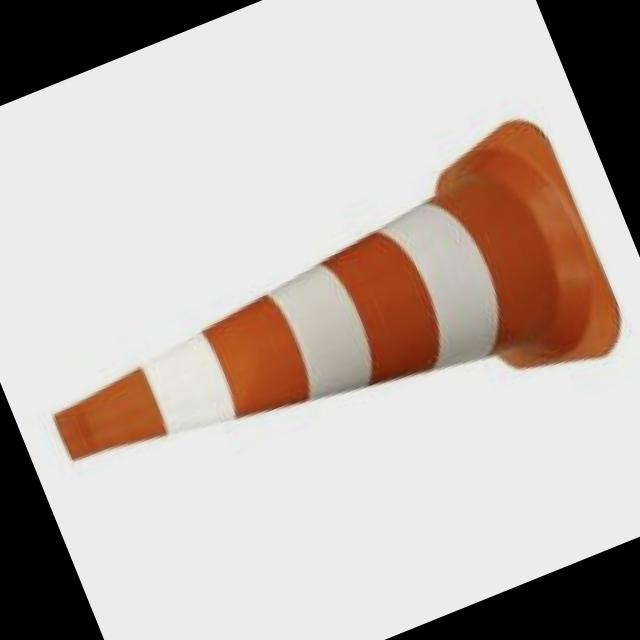cone: (20, 103, 640, 555)
